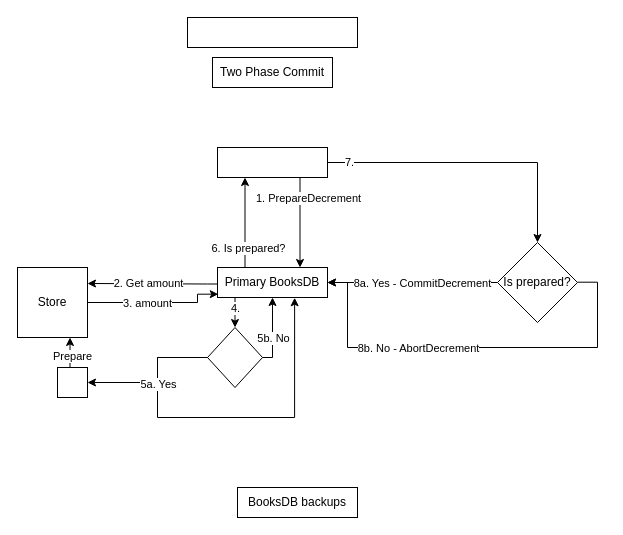
This 623x535 diagram has some shape labels left out. Each missing label, with the box of its shape:
Enough?: (206, 326, 262, 388)
OrderExecutor: (216, 146, 328, 178)
Primary-Backup Replication: (186, 16, 358, 48)
